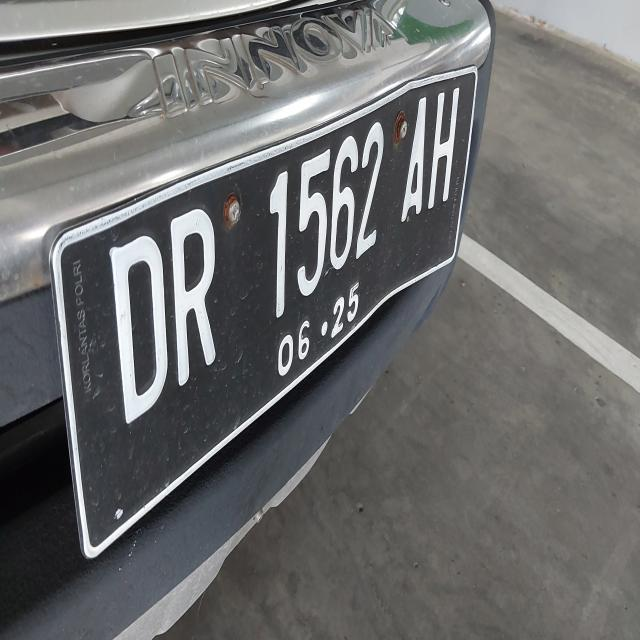1: (251, 151, 301, 330)
2: (352, 103, 392, 268)
5: (293, 131, 335, 305)
6: (324, 108, 361, 284)
A: (392, 72, 434, 230)
D: (95, 223, 179, 442)
H: (426, 60, 466, 234)
R: (161, 190, 235, 408)
